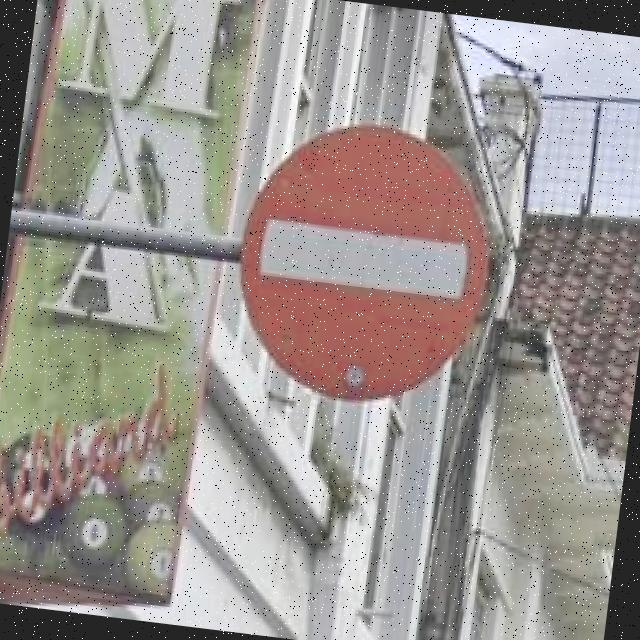Zakaz wjazdu: (222, 110, 502, 416)
